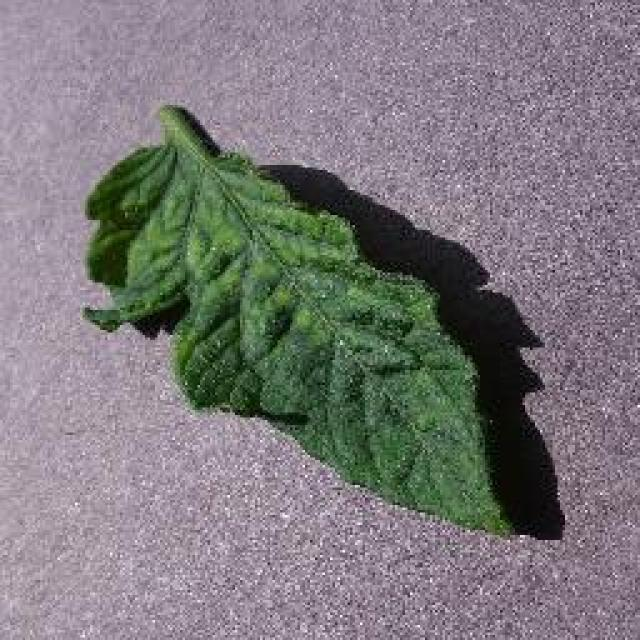Tomato___Tomato_mosaic_virus: (82, 105, 512, 530)
